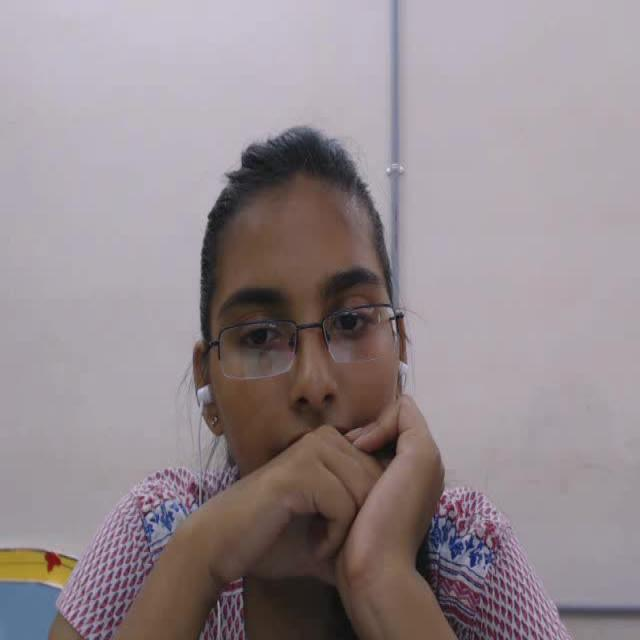Bored: (169, 119, 459, 562)
